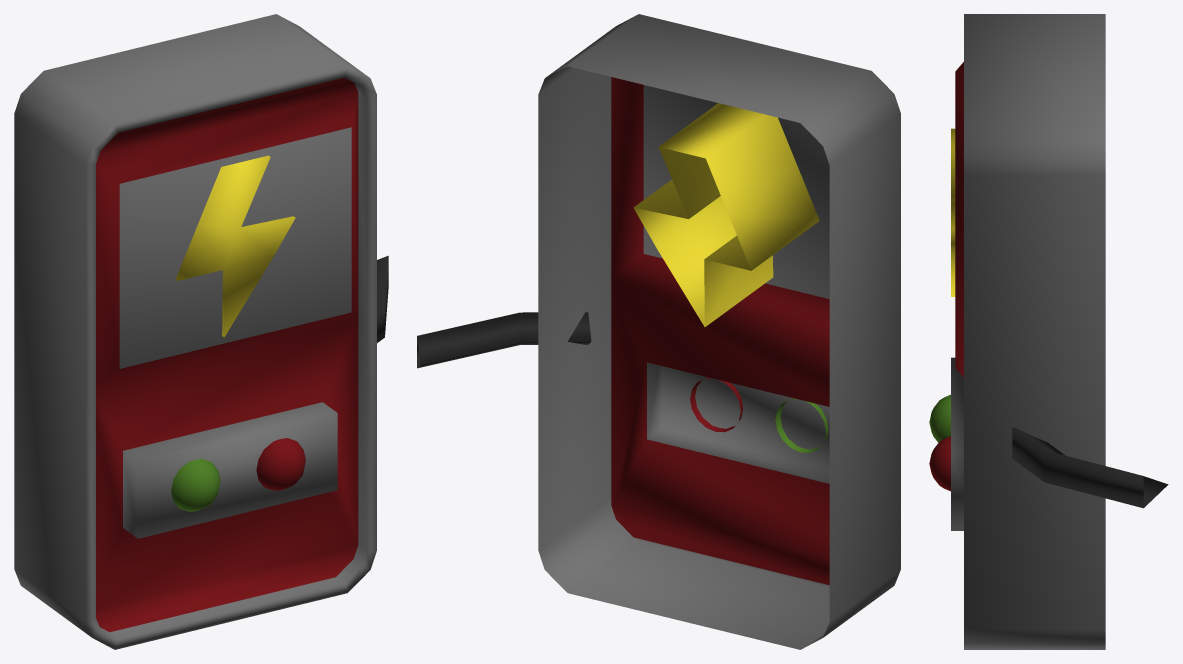
Rendered from caixa_de_forca.fbx.
3 renders of one model, left to right at view 1: azimuth 30°, elevation 25°; view 2: azimuth 150°, elevation 25°; view 3: azimuth 270°, elevation 25°, orthographic.
Parts seen in each view (by area): view 1: Caixa_de_forca; view 2: Caixa_de_forca; view 3: Caixa_de_forca.
Boxes of the visible parts, <box> form: Caixa_de_forca: <box>14,14,388,649</box>; Caixa_de_forca: <box>417,14,900,649</box>; Caixa_de_forca: <box>929,14,1168,649</box>.
Size of the model in its own units: 0.8573 by 1.1 by 0.4549.
